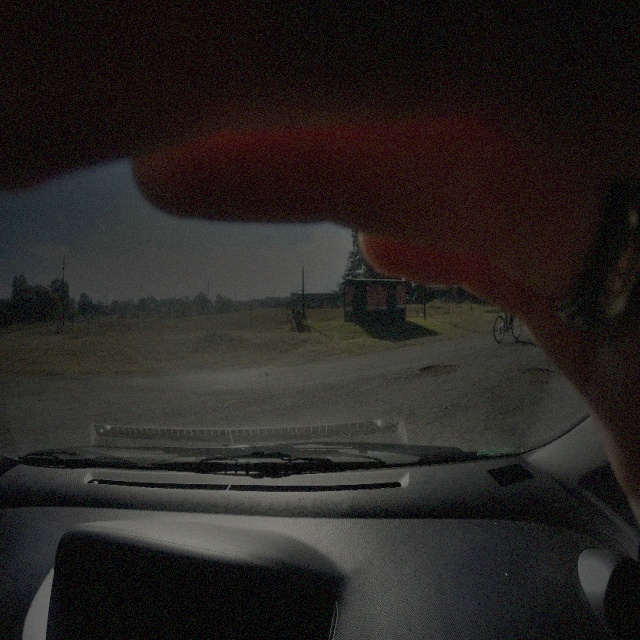pothole: (404, 362, 460, 378), (520, 366, 562, 382)
